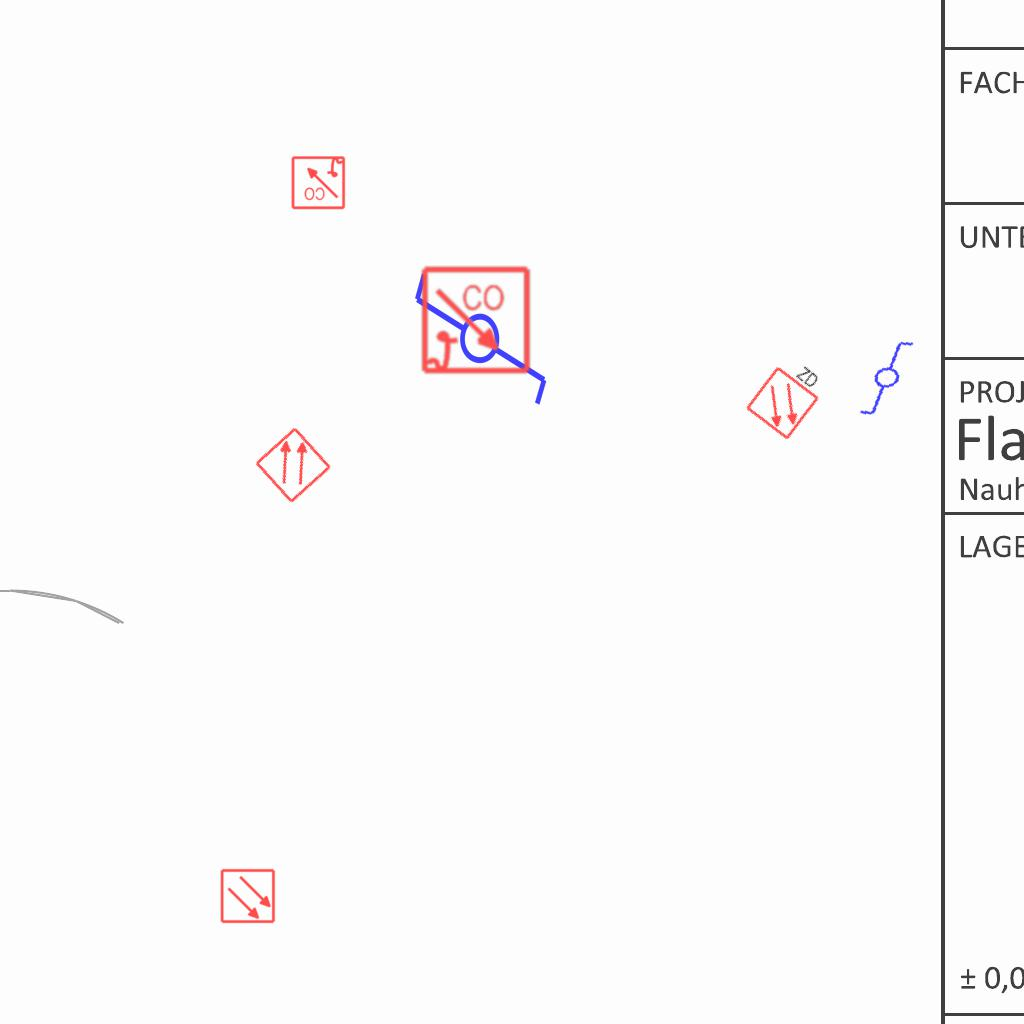RMO_Rauchmelder_optischer: (253, 425, 333, 505), (219, 867, 277, 925)
ROA_Rauchmelder_optisch_mit_Signalgeber_(Sockelsirene): (420, 265, 533, 378), (290, 154, 346, 210)
Wechselschalter: (410, 252, 554, 409), (845, 335, 937, 421)
ZD_Melder_in_Zwischendecke_mit_Revisionsoeffnung_mind_40_x_40_cm: (742, 348, 833, 442)
